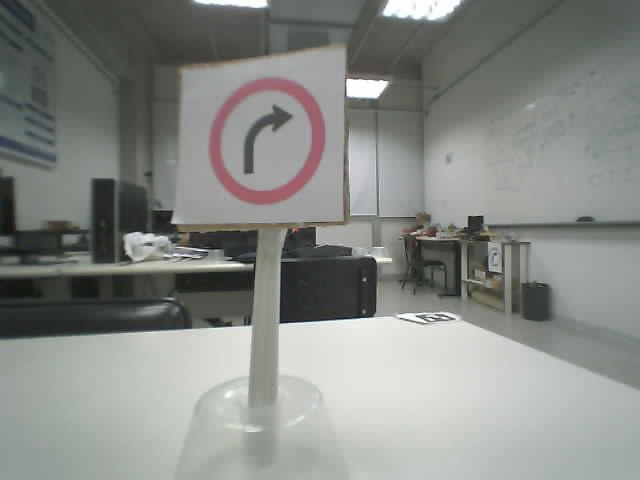R-25b_direita: (207, 75, 328, 205)
